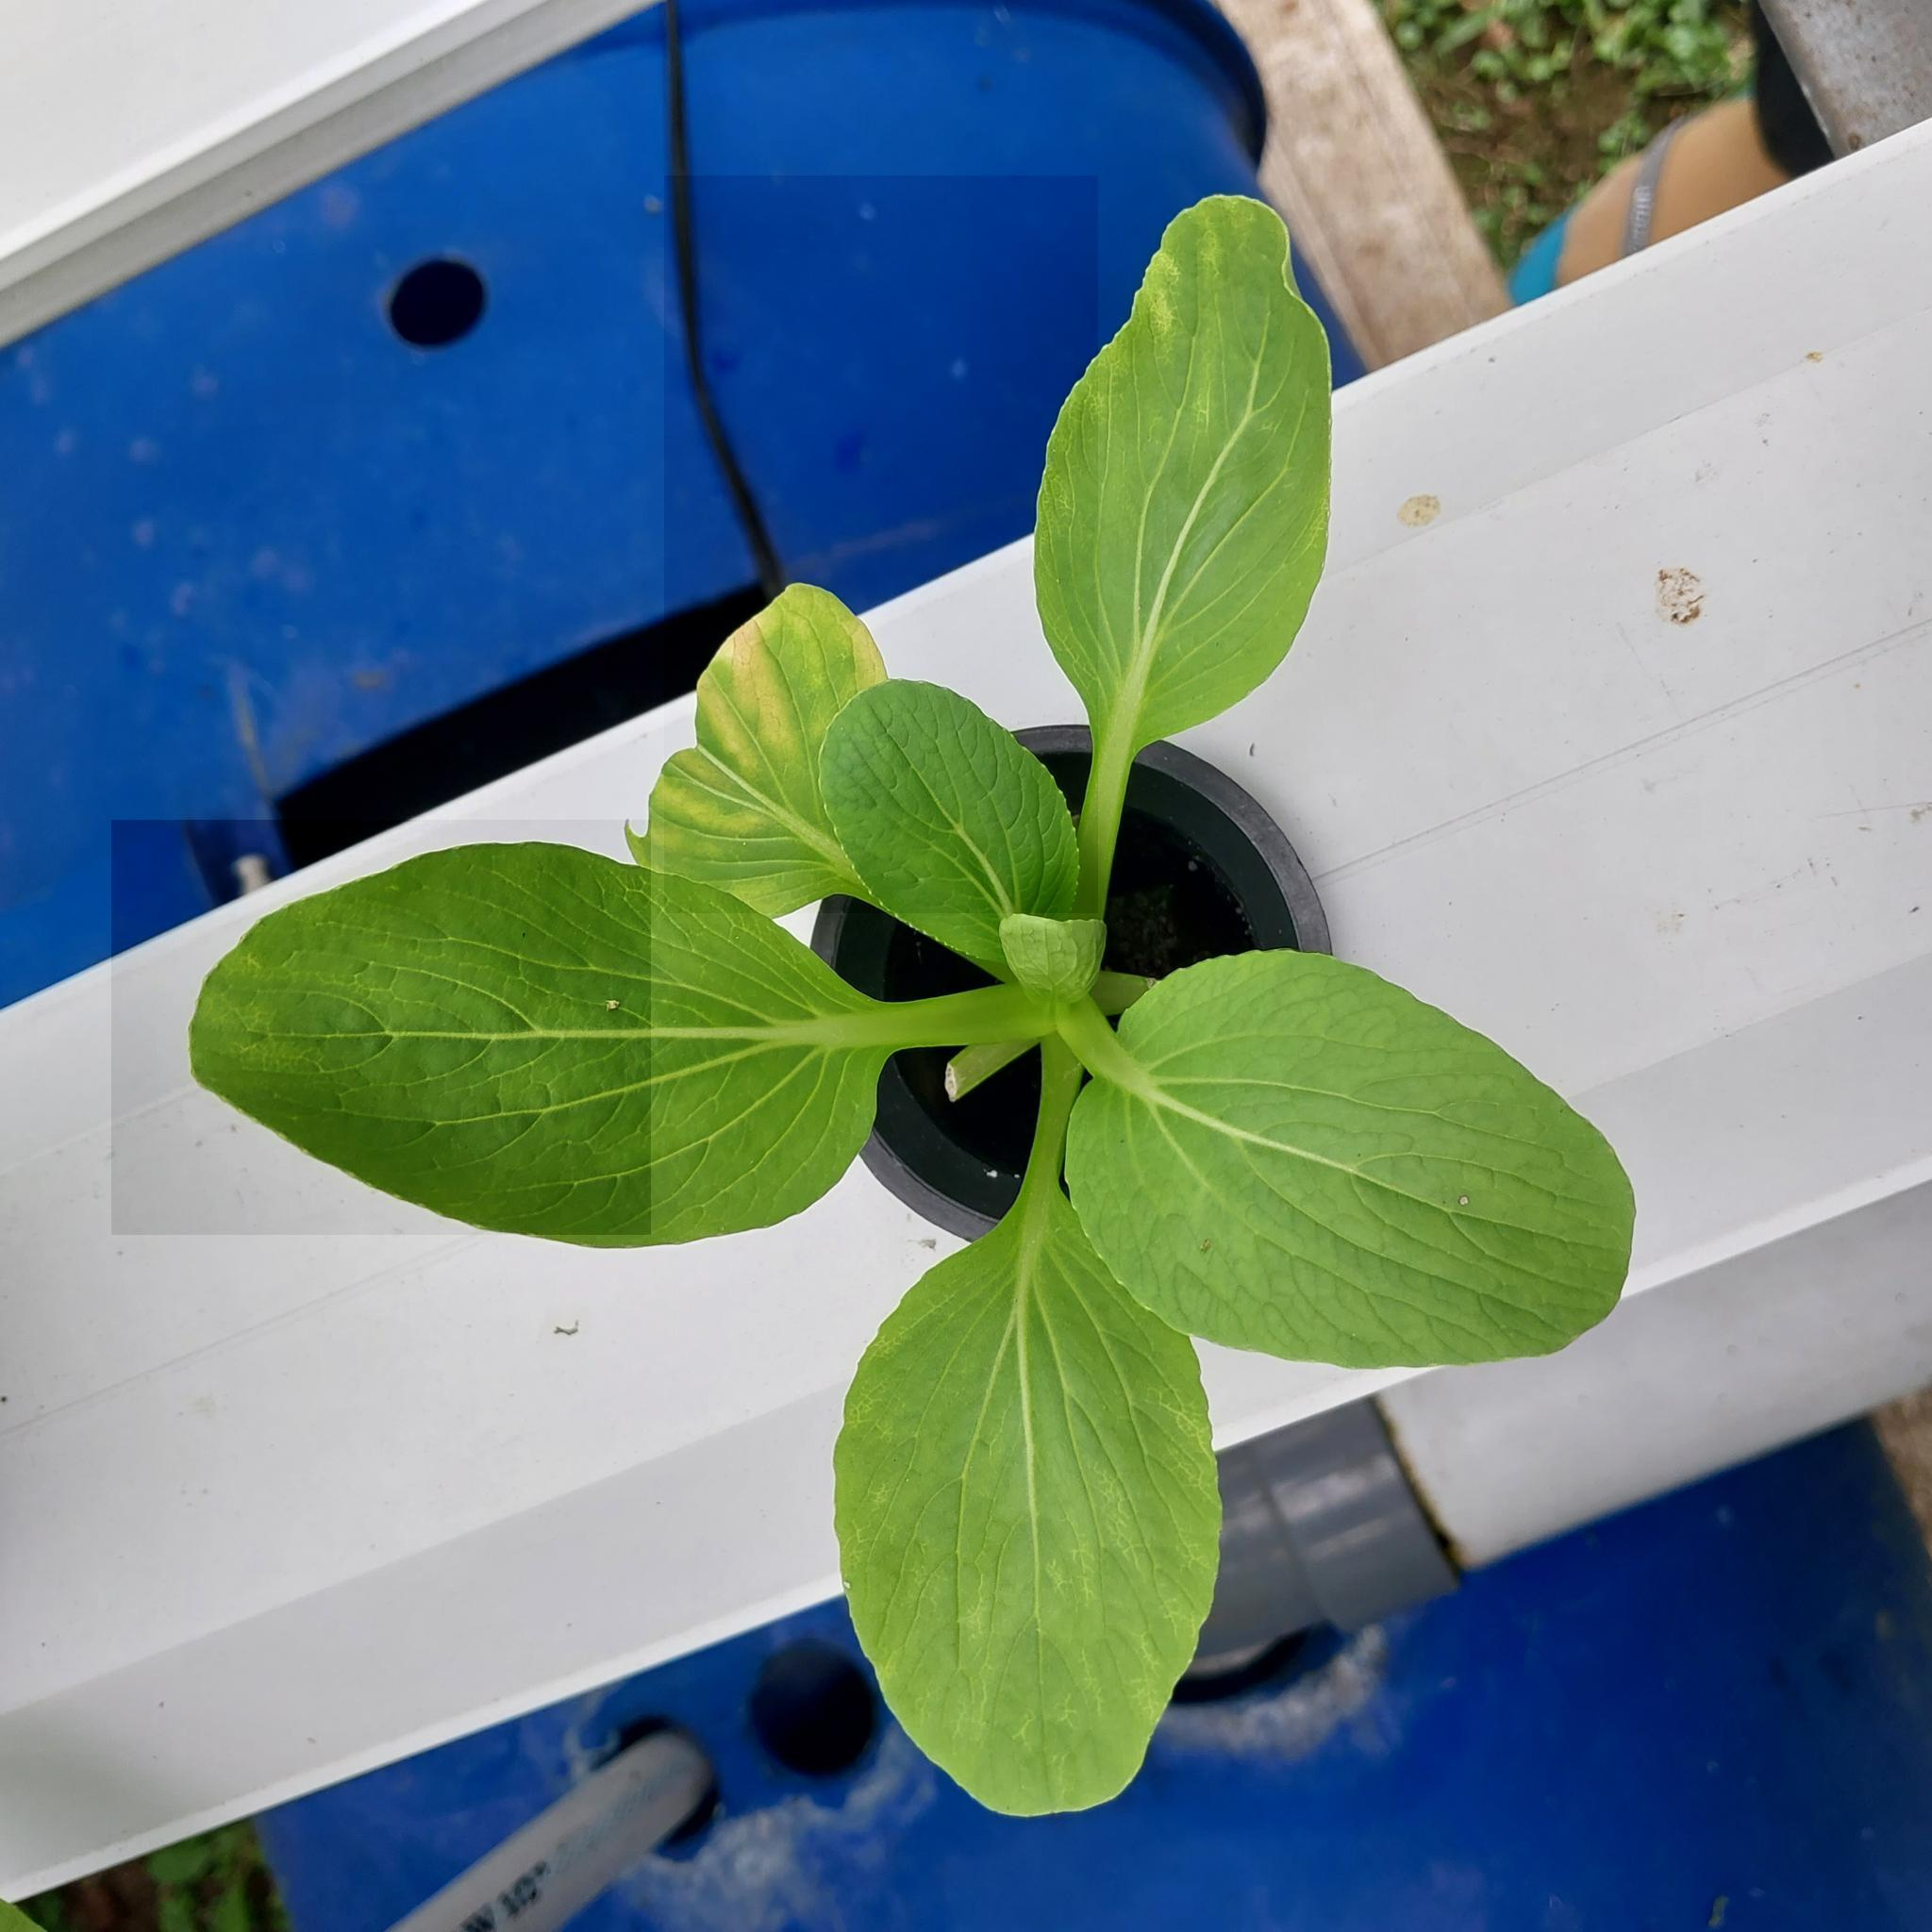Healthy-Pechay: (186, 846, 938, 1240), (839, 1104, 1178, 1819), (1088, 959, 1640, 1368), (1037, 180, 1327, 911), (821, 683, 1077, 991), (239, 941, 628, 1118), (536, 1016, 869, 1047)
